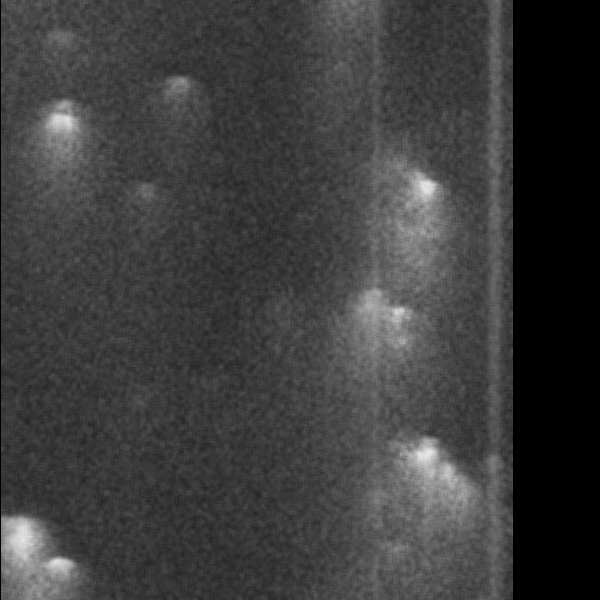spark: (203, 357, 276, 415), (91, 545, 182, 580), (34, 408, 114, 434), (15, 131, 77, 160)
